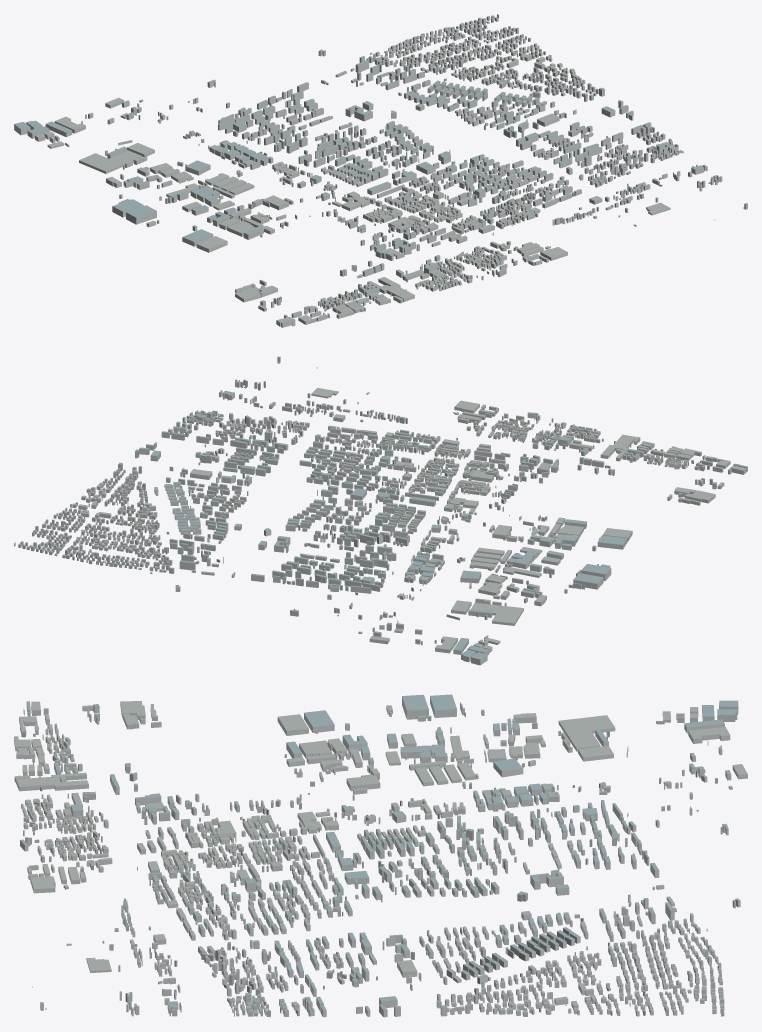
The model's file is far.glb.
The picture shows the model from 3 angles, top to bottom: view 1: azimuth 30°, elevation 25°; view 2: azimuth 150°, elevation 25°; view 3: azimuth 270°, elevation 25°; orthographic projection. The views are drawn at different scales.
Bounding box in the file's own units: 2153 × 38.22 × 2117.
